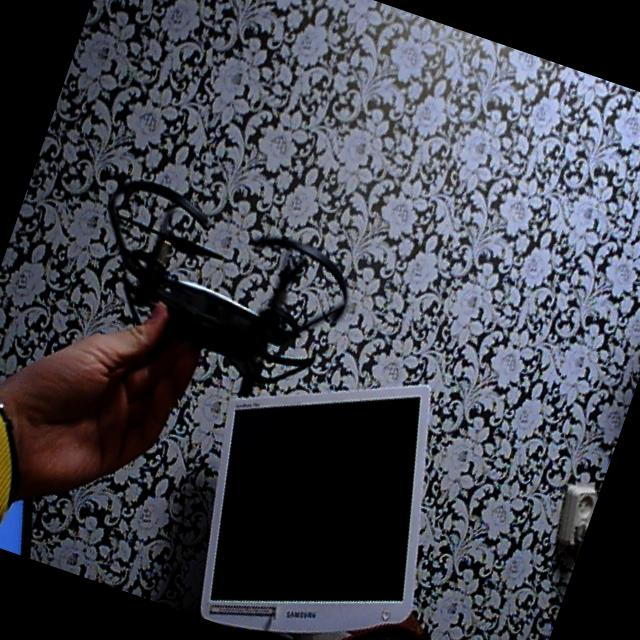drone: (48, 137, 376, 434)
